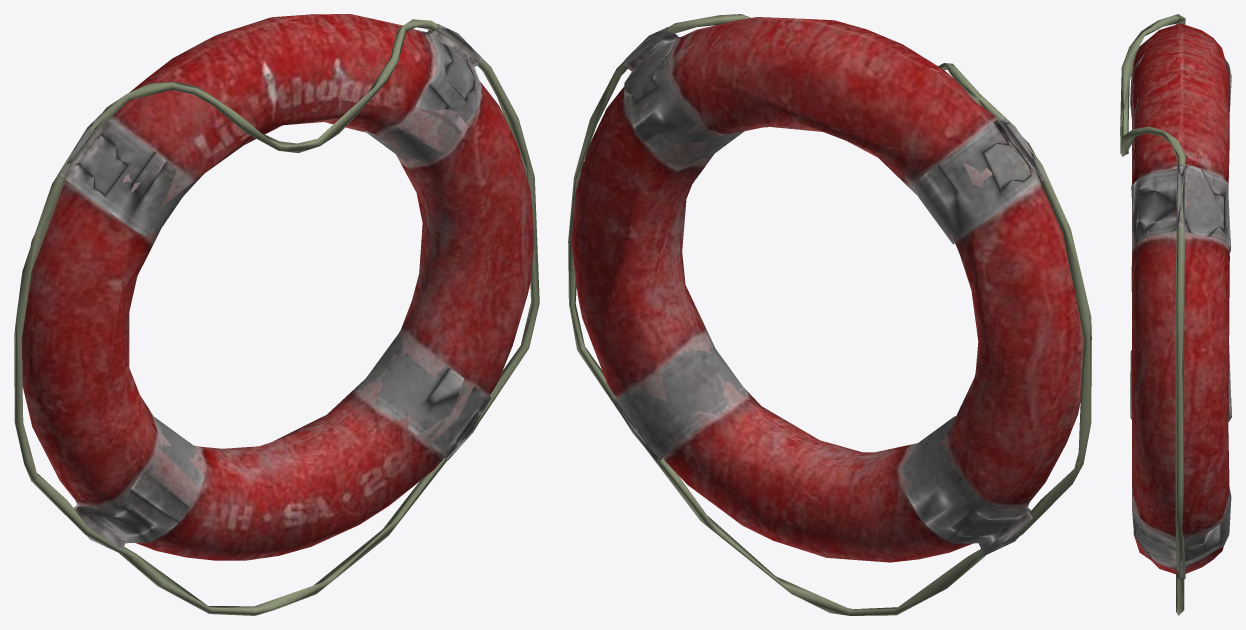
The model's file is lifebuoy.glb.
3 views of the same model, side by side, from view 1: azimuth 30°, elevation 25°; view 2: azimuth 150°, elevation 25°; view 3: azimuth 270°, elevation 25° (orthographic). The views are drawn at different scales.
Visible parts, largest first — view 1: lifebuoy; view 2: lifebuoy; view 3: lifebuoy.
Boxes of the visible parts, left/top/right/bottom form: lifebuoy: left=14, top=14, right=539, bottom=615; lifebuoy: left=568, top=14, right=1091, bottom=615; lifebuoy: left=1120, top=14, right=1231, bottom=615.
Size of the model in its own units: 0.7809 by 0.8396 by 0.1534.
Materials: 1 (1 with a texture image).
